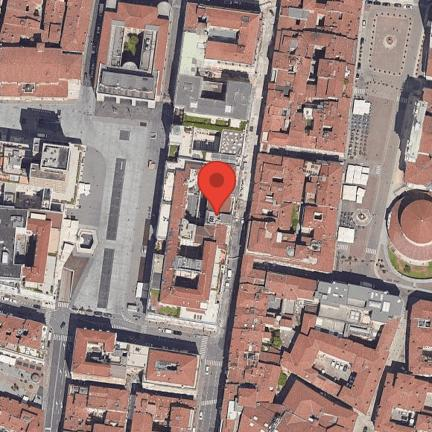area_open: (0, 99, 171, 346), (332, 0, 432, 293), (0, 355, 44, 408)
built: (145, 3, 260, 332), (218, 255, 406, 432), (61, 328, 201, 432), (0, 0, 94, 101), (93, 1, 174, 109), (388, 87, 432, 262), (0, 208, 62, 303), (0, 138, 71, 209), (0, 313, 50, 358), (0, 395, 44, 432)
